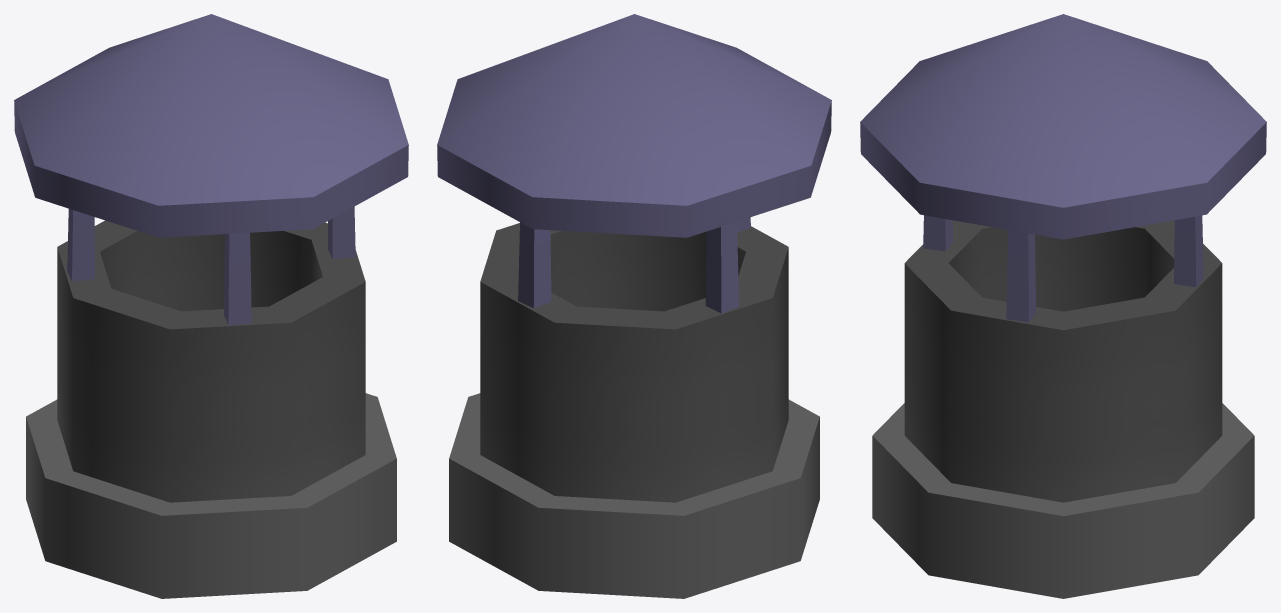
The model's file is Chimney_1_B_5.fbx.
The picture shows the model from 3 angles, left to right: view 1: azimuth 30°, elevation 25°; view 2: azimuth 150°, elevation 25°; view 3: azimuth 270°, elevation 25°; orthographic projection.
Parts seen in each view (by area): view 1: Chimney_1_B_5; view 2: Chimney_1_B_5; view 3: Chimney_1_B_5.
Boxes of the visible parts, left/top/right/bottom form: Chimney_1_B_5: left=14, top=14, right=408, bottom=598; Chimney_1_B_5: left=437, top=14, right=831, bottom=598; Chimney_1_B_5: left=860, top=14, right=1266, bottom=598.
Bounding box in the file's own units: 49.17 × 67.27 × 49.17.
